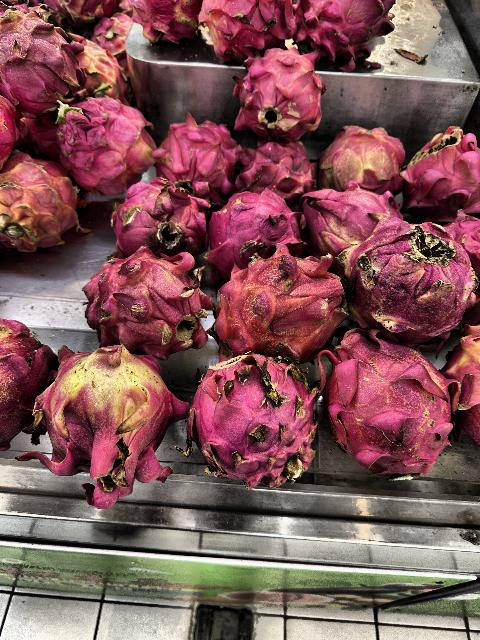buah-naga-belum-matang: (38, 336, 192, 506), (0, 154, 84, 256), (295, 176, 391, 252), (312, 126, 408, 196), (440, 324, 480, 442), (73, 35, 133, 105)
buah-naga-matang: (322, 330, 456, 482), (338, 214, 476, 342), (190, 348, 322, 479), (209, 249, 347, 359), (80, 248, 210, 352), (226, 38, 330, 130), (56, 96, 152, 190), (0, 8, 86, 108), (114, 174, 212, 258), (294, 1, 400, 72), (145, 115, 235, 197), (204, 180, 298, 258), (1, 318, 54, 444), (404, 125, 480, 212), (195, 0, 298, 56), (232, 140, 318, 202), (126, 1, 198, 42)
